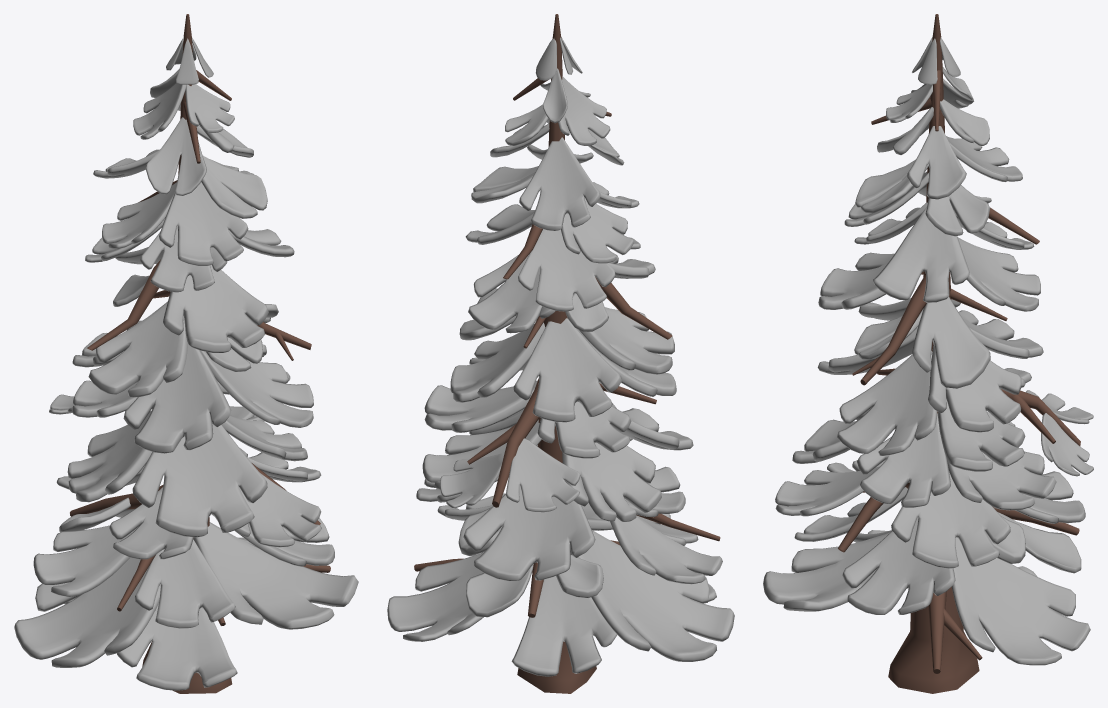
The model's file is PineTreeA.fbx.
3 views of the same model, side by side, from view 1: azimuth 30°, elevation 25°; view 2: azimuth 150°, elevation 25°; view 3: azimuth 270°, elevation 25° (orthographic).
Visible parts, largest first — view 1: PineA:pCylinder1; view 2: PineA:pCylinder1; view 3: PineA:pCylinder1.
Part boxes in pixels (x1,y1,x2,y2): PineA:pCylinder1: (14, 14, 358, 693); PineA:pCylinder1: (387, 14, 734, 693); PineA:pCylinder1: (763, 14, 1093, 693).
Size of the model in its own units: 272 by 573 by 260.
